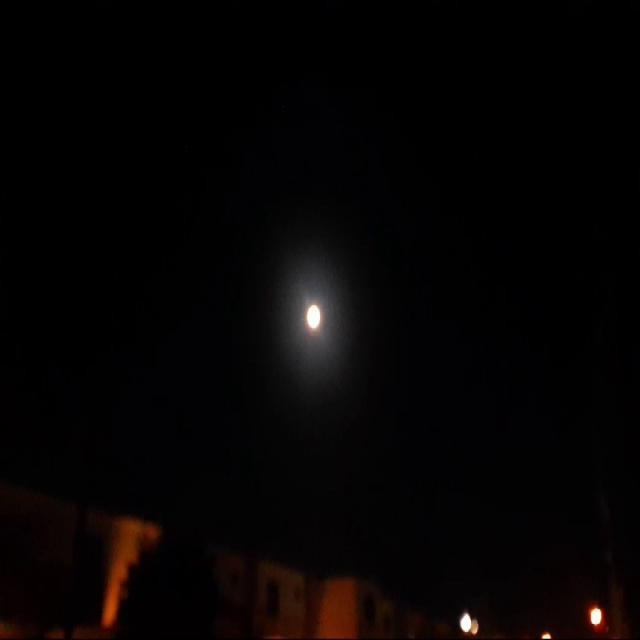moon: (299, 301, 316, 335)
